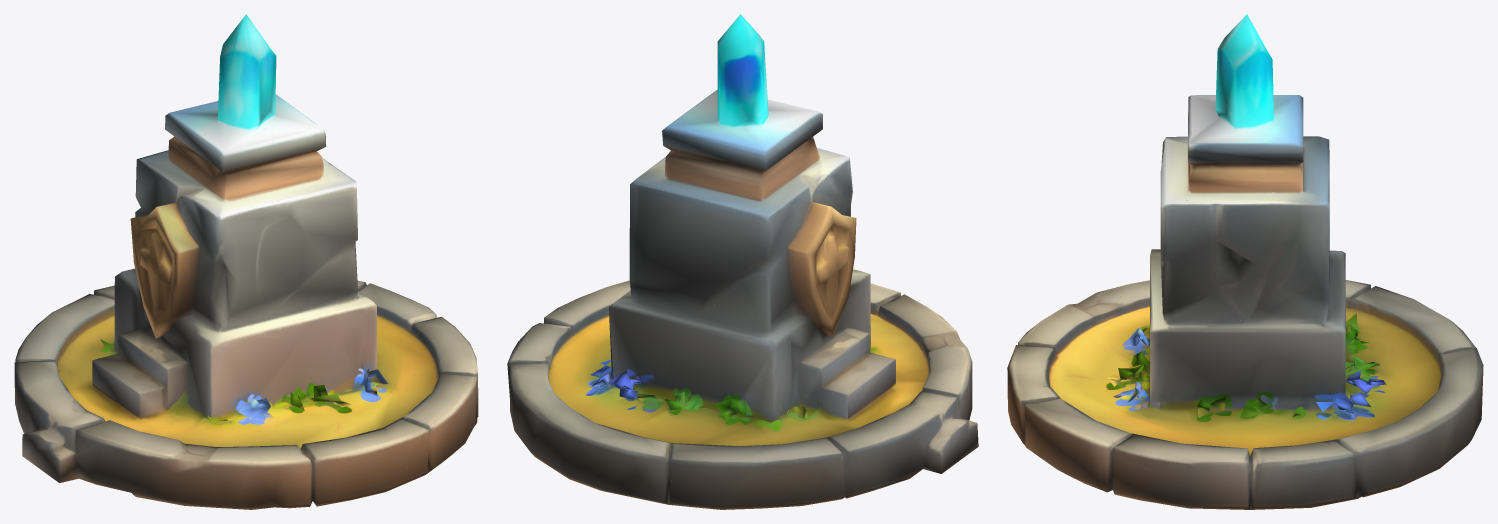
The model's file is shrine_defence.glb.
3 renders of one model, left to right at view 1: azimuth 30°, elevation 25°; view 2: azimuth 150°, elevation 25°; view 3: azimuth 270°, elevation 25°, orthographic.
Parts seen in each view (by area): view 1: geometry_0.001; view 2: geometry_0.001; view 3: geometry_0.001.
Part boxes in pixels (left/top/right/bottom): geometry_0.001: left=14, top=14, right=478, bottom=509; geometry_0.001: left=507, top=14, right=978, bottom=509; geometry_0.001: left=1007, top=14, right=1483, bottom=509.
Bounding box in the file's own units: 1.99 × 1.85 × 1.99.
Materials: 1 (1 with a texture image).
